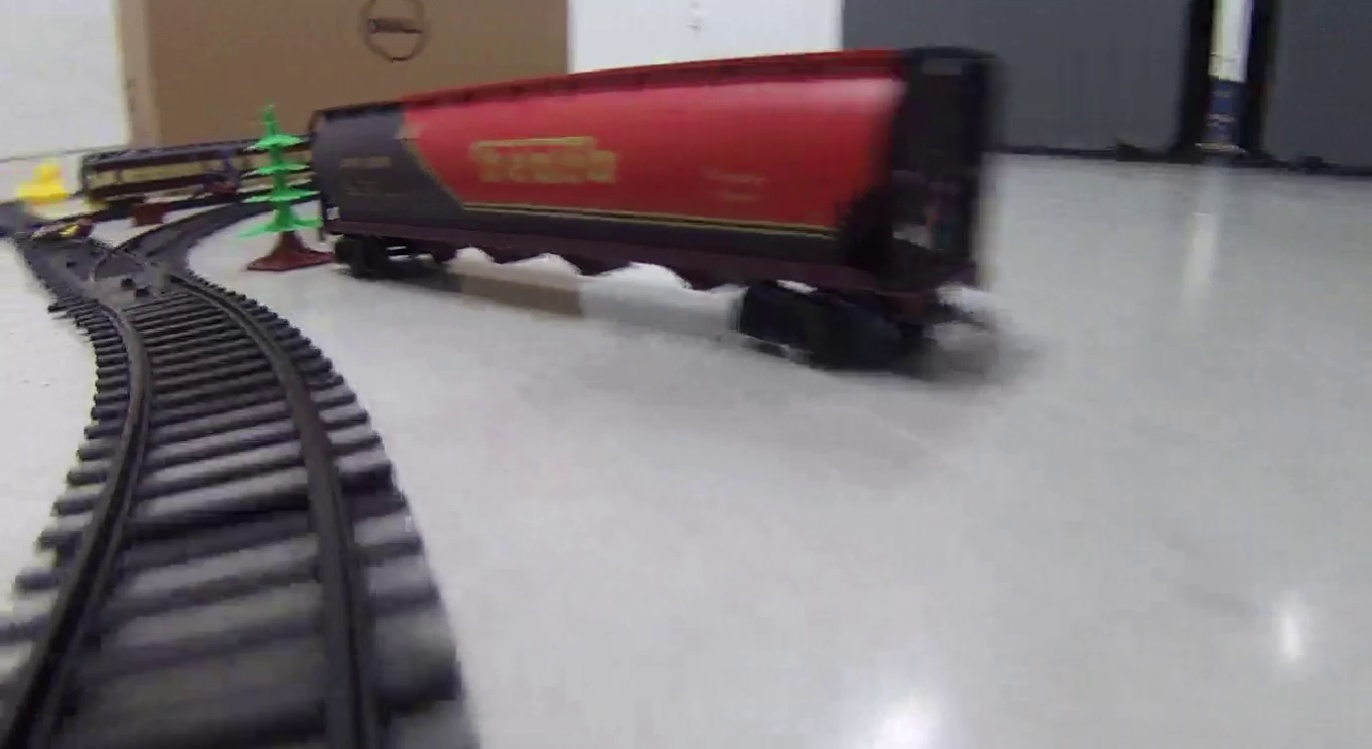tree: (236, 104, 317, 267)
